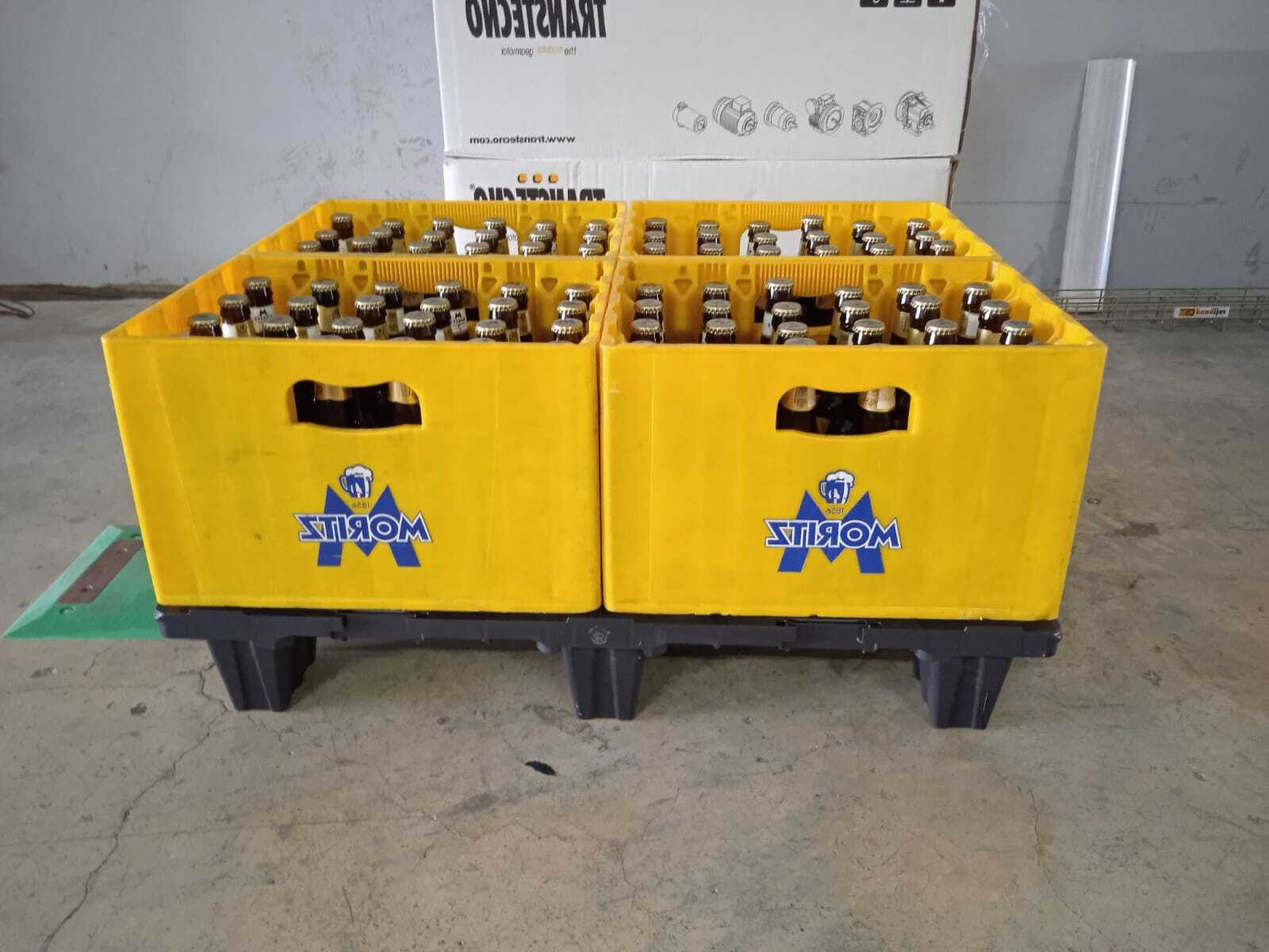block: (198, 625, 300, 720), (922, 647, 1025, 738), (555, 642, 657, 725)
front: (135, 613, 1082, 741)
hole pallet: (633, 638, 925, 728), (286, 633, 573, 719)
